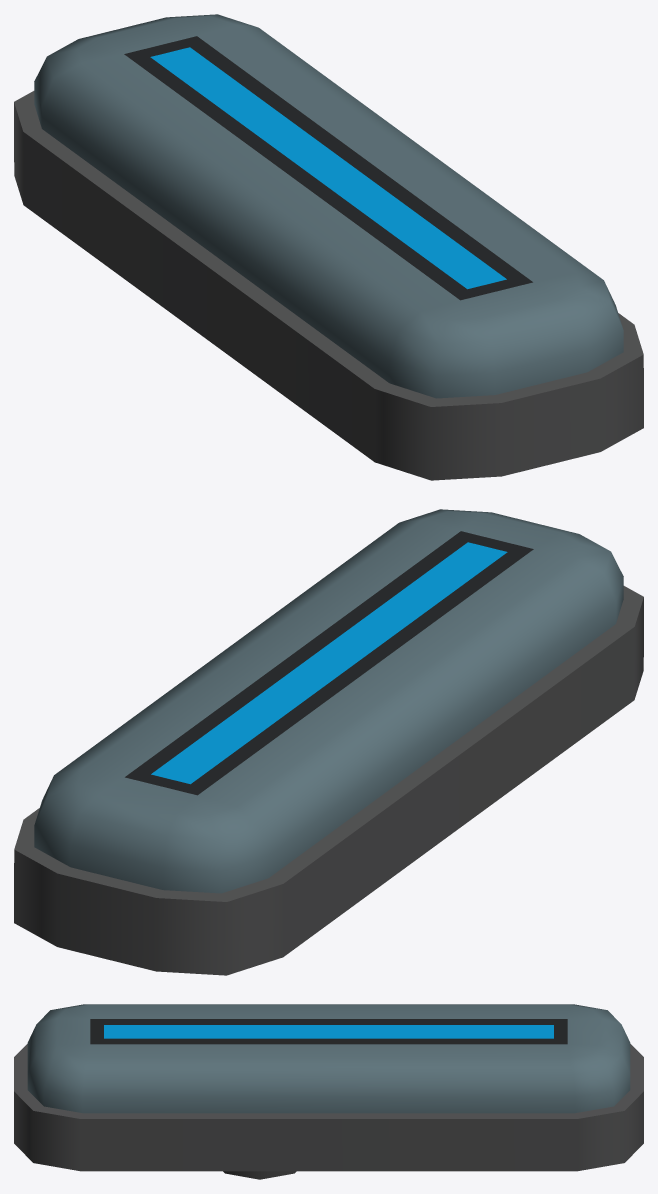
The model's file is Armchair_013_Armrest_04.fbx.
3 views of the same model, one above another, from view 1: azimuth 30°, elevation 25°; view 2: azimuth 150°, elevation 25°; view 3: azimuth 270°, elevation 25° (orthographic). The views are drawn at different scales.
Visible parts, largest first — view 1: Armchair_013_Armrest_04; view 2: Armchair_013_Armrest_04; view 3: Armchair_013_Armrest_04.
Part boxes in pixels (x1,y1,x2,y2): Armchair_013_Armrest_04: (14, 14, 643, 480); Armchair_013_Armrest_04: (14, 509, 643, 975); Armchair_013_Armrest_04: (14, 1004, 643, 1179).
Size of the model in its own units: 13.32 by 39.4 by 8.87.
